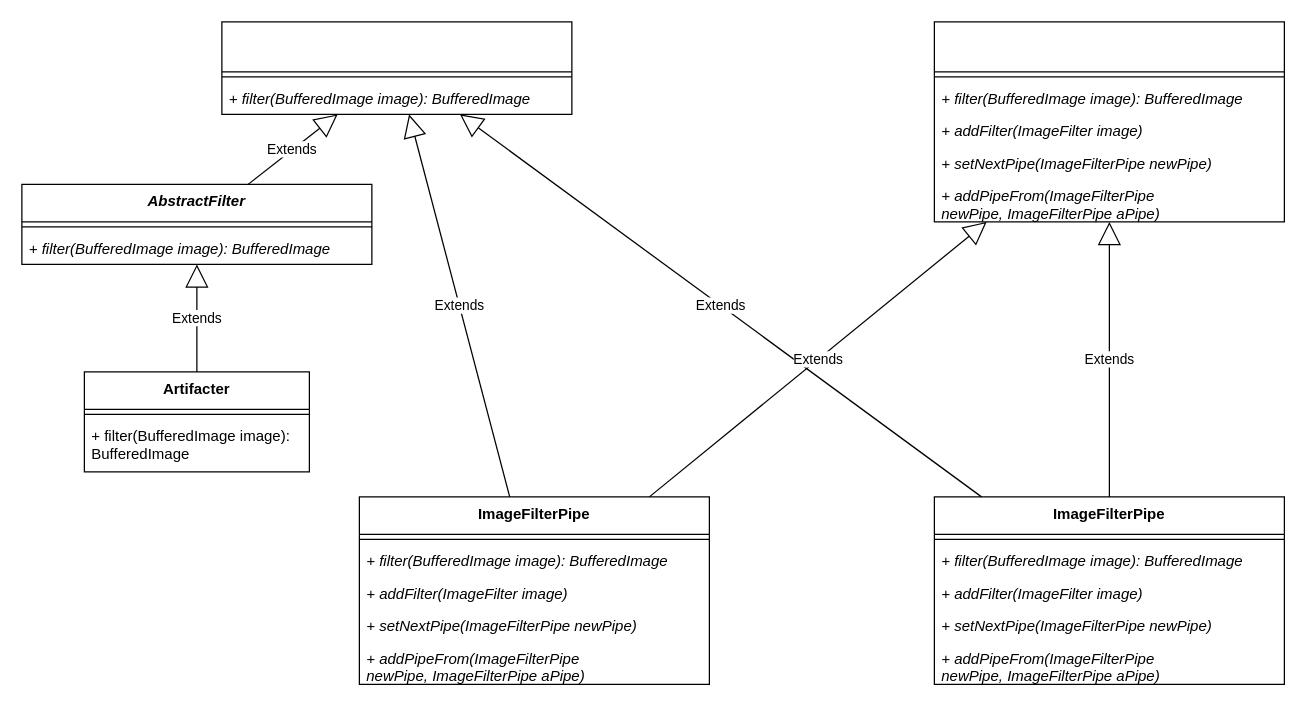
This 1306x710 diagram has some shape labels left out. The box of each missing label's shape, as (x1, y1, x2, y2) in pixels:
<Interface> ImageFilter: (221, 21, 572, 114)
<Interface> ImageFilterPipeInterface: (933, 21, 1284, 222)
